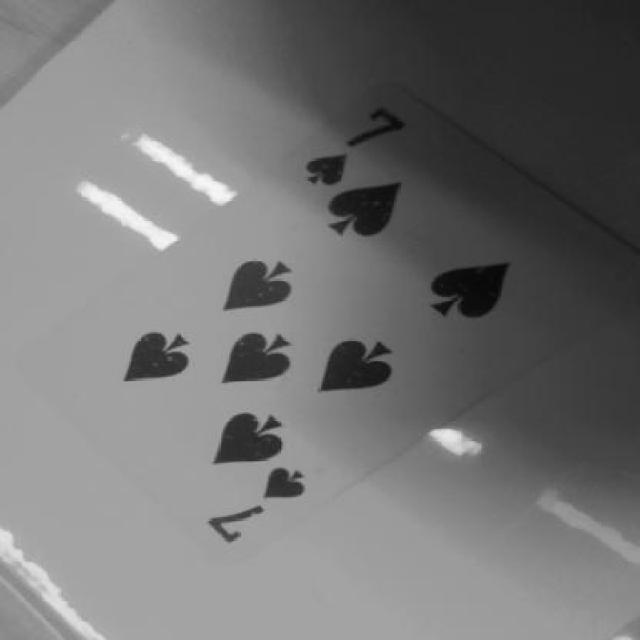7S: (283, 91, 422, 202), (192, 446, 341, 546)
